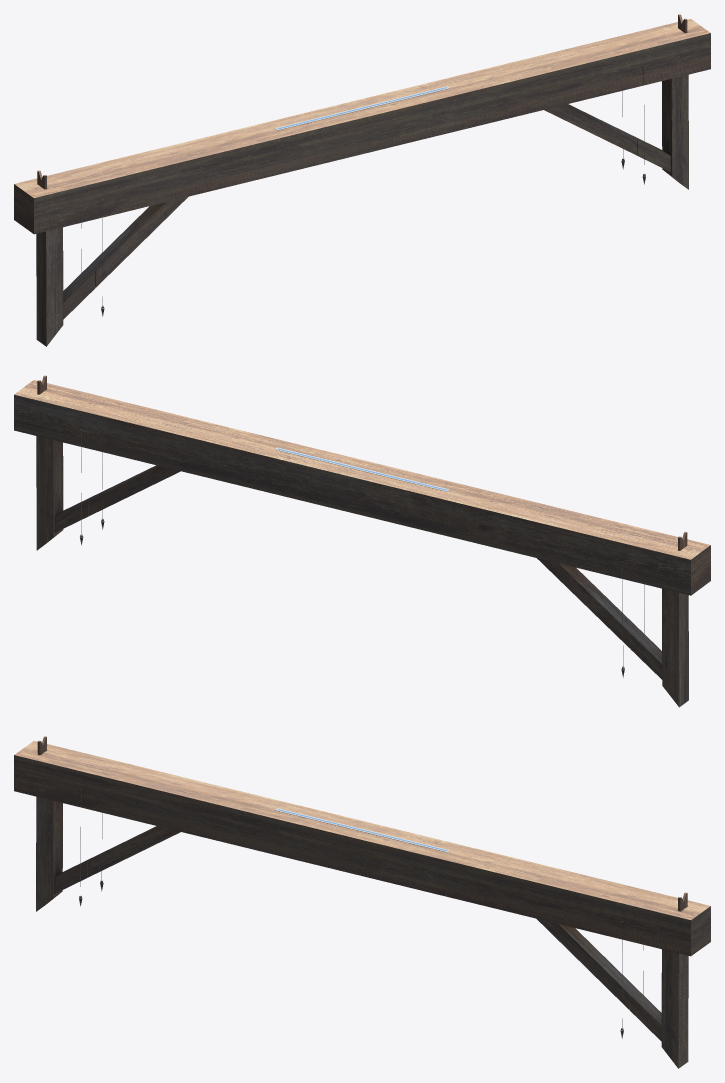
File: corobate.glb
3 renders of one model, top to bottom at view 1: azimuth 30°, elevation 25°; view 2: azimuth 150°, elevation 25°; view 3: azimuth 330°, elevation 25°, orthographic.
Parts seen in each view (by area): view 1: Layer_3D_LEGNO, Layer_3D_METALLO; view 2: Layer_3D_LEGNO, Layer_3D_METALLO; view 3: Layer_3D_LEGNO, Layer_3D_METALLO.
Boxes of the visible parts, <box> form: Layer_3D_LEGNO: <box>14,14,710,346</box>; Layer_3D_METALLO: <box>81,67,645,316</box>; Layer_3D_LEGNO: <box>14,375,710,707</box>; Layer_3D_METALLO: <box>79,429,644,677</box>; Layer_3D_LEGNO: <box>14,736,710,1068</box>; Layer_3D_METALLO: <box>79,789,643,1038</box>.
Bounding box in the file's own units: 5.81 × 1.39 × 0.3423.
3 materials, 2 textured.
